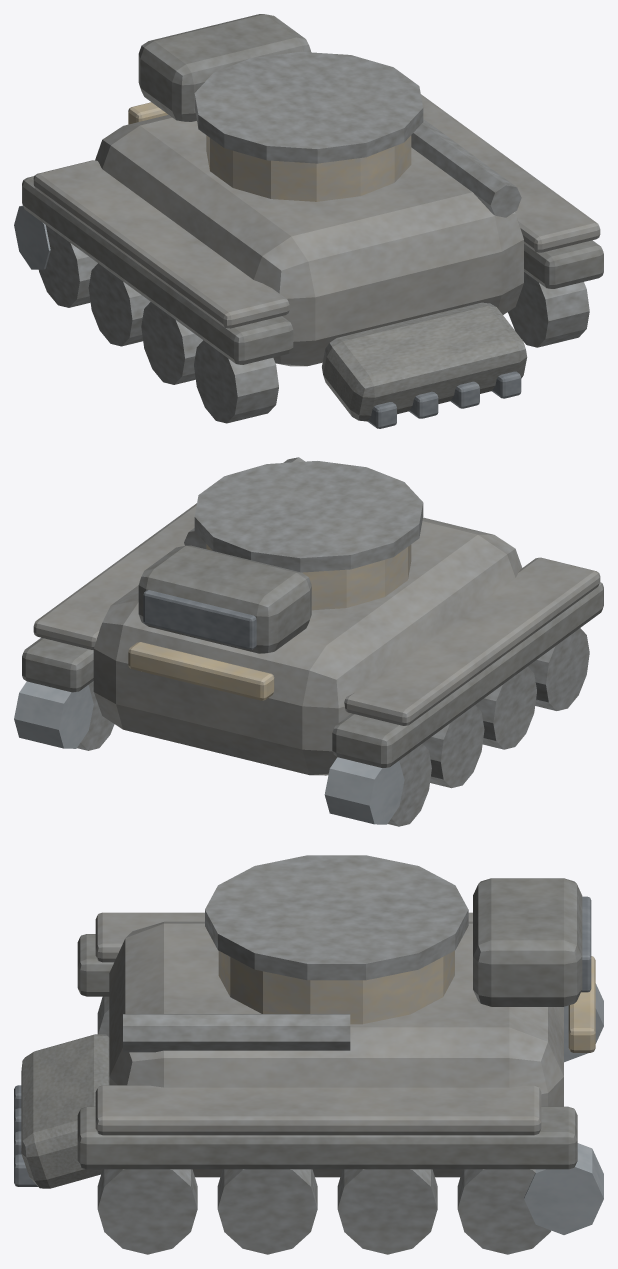
Rendered from com_harvester.glb.
3 renders of one model, top to bottom at view 1: azimuth 30°, elevation 25°; view 2: azimuth 150°, elevation 25°; view 3: azimuth 270°, elevation 25°, orthographic. The views are drawn at different scales.
Parts seen in each view (by area): view 1: com_harvester, intake; view 2: com_harvester; view 3: com_harvester, intake.
Part boxes in pixels (x1,y1,x2,y2): com_harvester: [14, 14, 603, 428]; intake: [322, 302, 527, 421]; com_harvester: [14, 457, 603, 826]; com_harvester: [14, 855, 603, 1254]; intake: [21, 1034, 109, 1188].
Size of the model in its own units: 1.09 by 0.6 by 1.3.
Materials: 2 (2 with a texture image).
